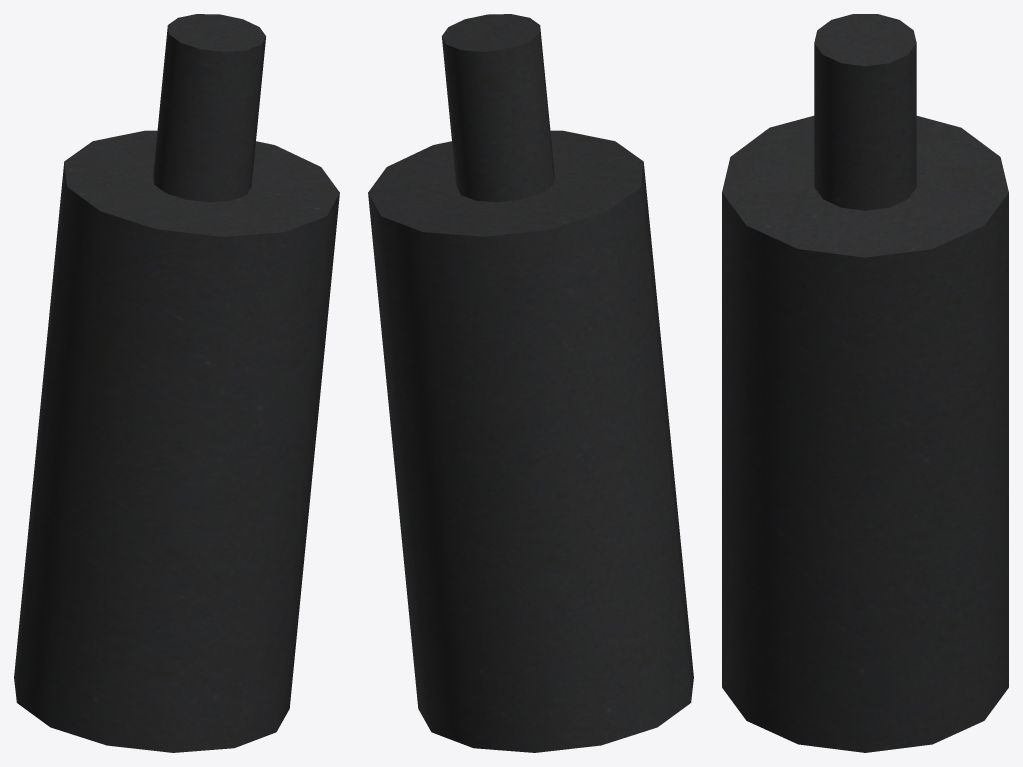
Rendered from Buffer_Retainer.dae.
3 views of the same model, side by side, from view 1: azimuth 30°, elevation 25°; view 2: azimuth 150°, elevation 25°; view 3: azimuth 270°, elevation 25° (orthographic). The views are drawn at different scales.
Parts seen in each view (by area): view 1: Buffer_Retainer; view 2: Buffer_Retainer; view 3: Buffer_Retainer.
Boxes of the visible parts, box(x1,y1,x2,y2) form: Buffer_Retainer: box(14, 14, 339, 752); Buffer_Retainer: box(368, 14, 693, 752); Buffer_Retainer: box(722, 14, 1008, 752).
Bounding box in the file's own units: 0.00684 × 0.00571 × 0.0152.
Materials: 1 (1 with a texture image).
